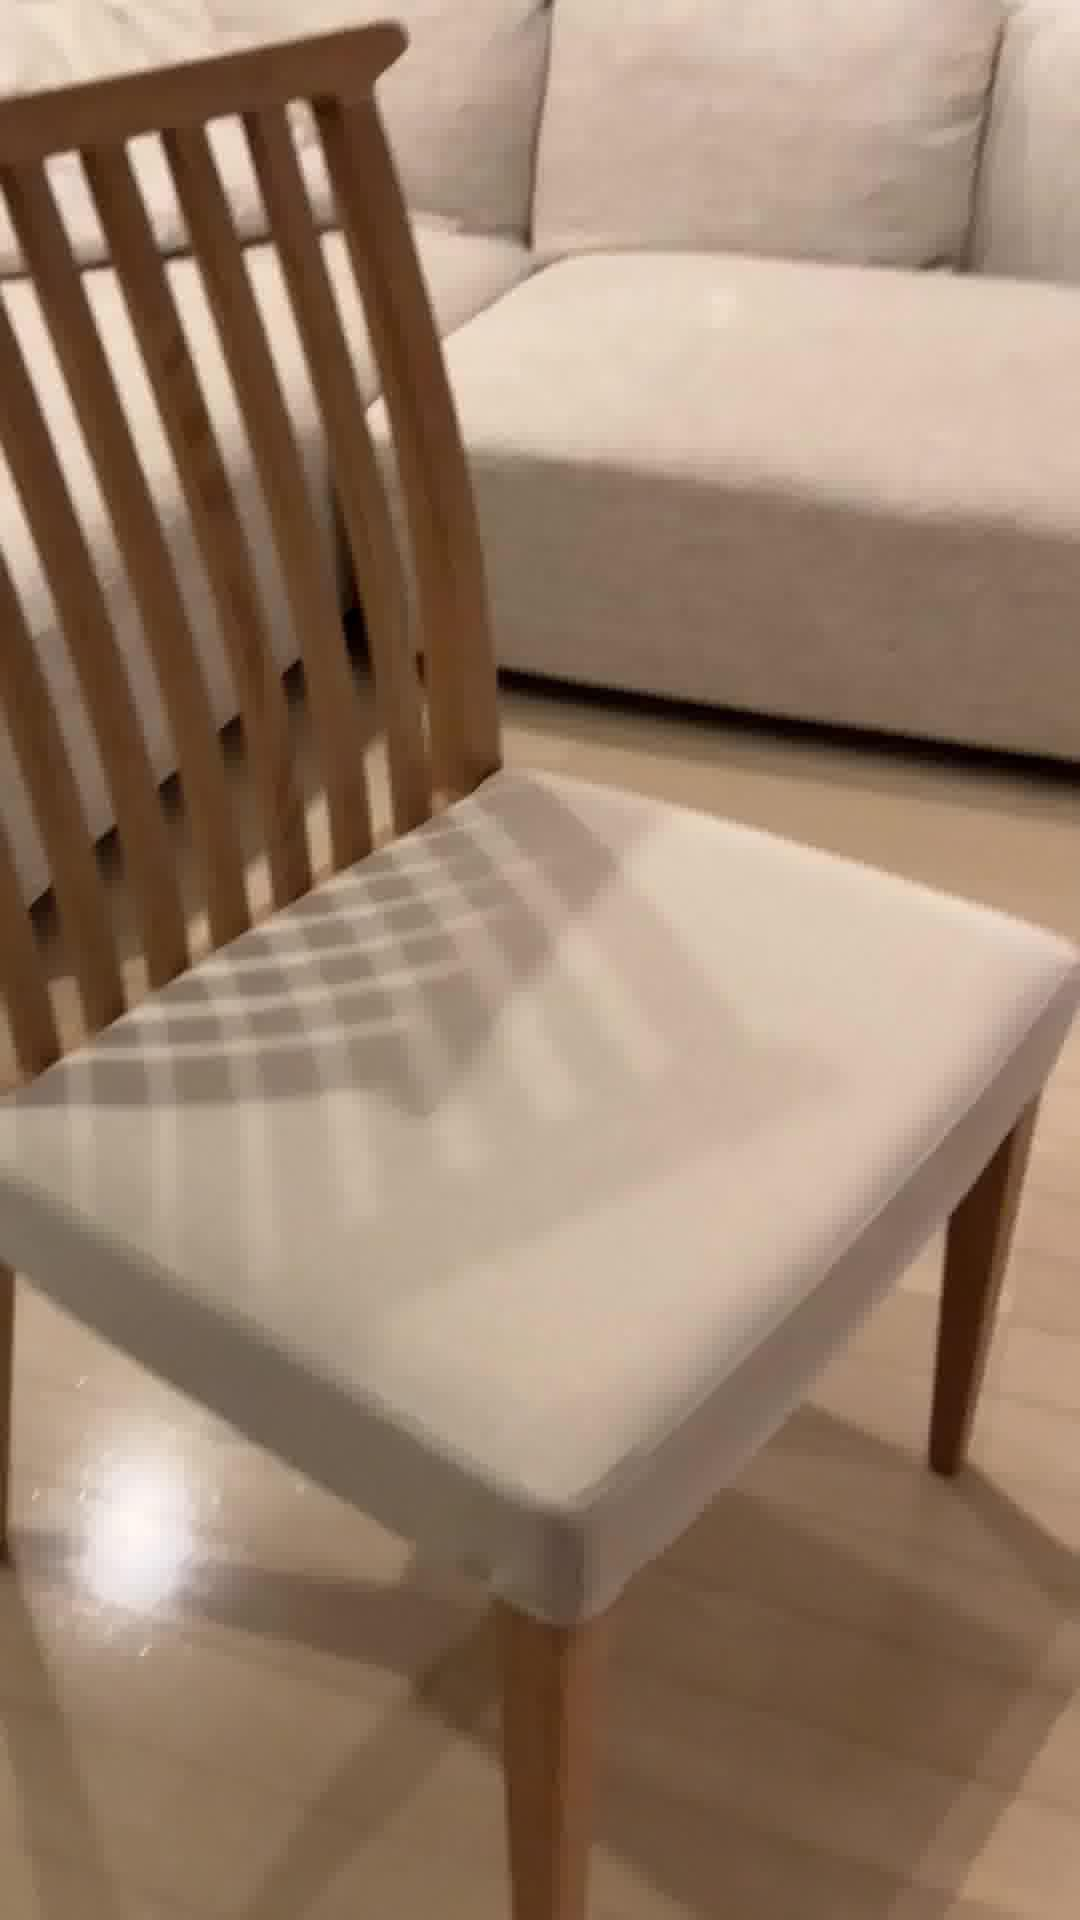takumikan-chair: (0, 15, 1080, 1920)
